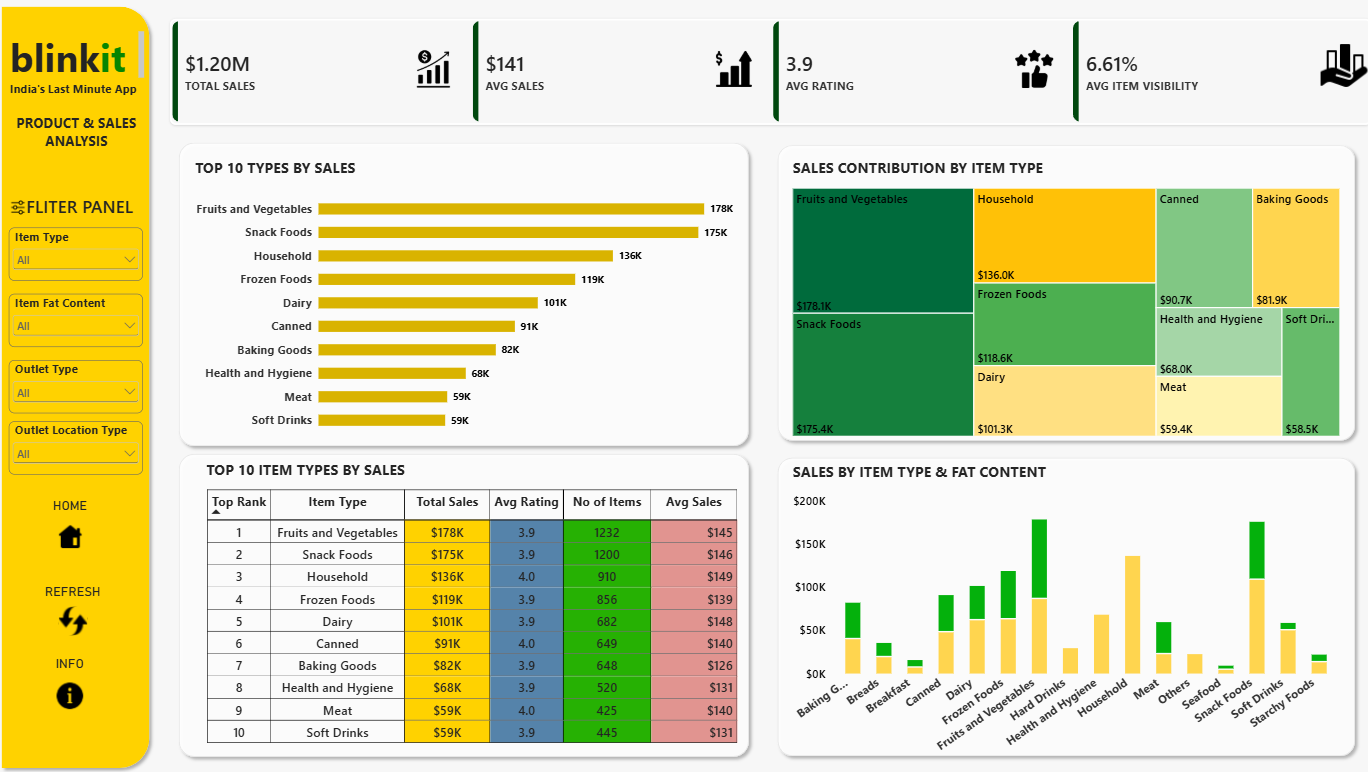

This screenshot's page, from the dashboard's own definition file:
{"tool":"powerbi","page":{"name":"PRODUCT","canvas":[1920,1080],"ordinal":1},"visuals":[{"type":"shape","box":[0,0,224.4,1080.6],"z":0},{"type":"textbox","box":[20.6,43.2,187.3,67.9],"z":1000},{"type":"textbox","box":[20.6,111.1,224.4,30.9],"z":2000},{"type":"cardVisual","fields":{"Data":["BlinkIT Grocery Data.Total Sales","BlinkIT Grocery Data.Avg Sales","BlinkIT Grocery Data.Avg Rating","BlinkIT Grocery Data.Average Item Visibility"]},"box":[244.2,26.2,1676.2,148.3],"z":3000},{"type":"shape","box":[247.7,190.1,812.8,441.3],"z":4000},{"type":"cardVisual","fields":{"Data":["BlinkIT Grocery Data.Total Sales","BlinkIT Grocery Data.Avg Sales","BlinkIT Grocery Data.No of Items","BlinkIT Grocery Data.Avg Rating"]},"box":[343.7,568.1,121.4,55.6],"z":5000},{"type":"shape","box":[247,695.7,317,57.6],"z":6000},{"type":"slicer","fields":{"Values":["BlinkIT Grocery Data.Item Type"]},"box":[18.5,317,187.3,74.1],"z":7000},{"type":"slicer","fields":{"Values":["BlinkIT Grocery Data.Item Fat Content"]},"box":[18.5,409.6,187.3,74.1],"z":8000},{"type":"slicer","fields":{"Values":["BlinkIT Grocery Data.Outlet Type"]},"box":[18.5,502.2,187.3,74.1],"z":9000},{"type":"textbox","box":[43.2,271.7,181.1,57.6],"z":10000},{"type":"image","box":[10.3,279.9,43.2,20.6],"z":11000},{"type":"actionButton","title":"REFRESH","box":[20.9,813.9,175.3,83.5],"z":12000},{"type":"actionButton","title":"INFO","box":[54.3,916.2,100.2,89.7],"z":13000},{"type":"slicer","fields":{"Values":["BlinkIT Grocery Data.Outlet Location Type"]},"box":[19.2,587.8,187.3,74.1],"z":14000},{"type":"shape","box":[1082.7,193.5,823.3,430.2],"z":15000},{"type":"shape","box":[247,623.7,813,440.5],"z":16000},{"type":"shape","box":[1082.7,629.8,823.3,434.3],"z":17000},{"type":"clusteredBarChart","title":"TOP 10 TYPES BY SALES","fields":{"Category":["BlinkIT Grocery Data.Item Type"],"Y":["Sum(BlinkIT Grocery Data.Sales)"]},"box":[263.5,205.8,782.2,417.8],"z":18000},{"type":"tableEx","title":"TOP 10 ITEM TYPES BY SALES","fields":{"Values":["BlinkIT Grocery Data.Top Rank","BlinkIT Grocery Data.Item Type","BlinkIT Grocery Data.Total Sales","BlinkIT Grocery Data.Avg Rating","BlinkIT Grocery Data.No of Items","BlinkIT Grocery Data.Avg Sales"]},"box":[279.1,626.2,781.4,429.1],"z":19000},{"type":"treemap","title":"SALES CONTRIBUTION BY ITEM TYPE","fields":{"Group":["BlinkIT Grocery Data.Item Type"],"Values":["BlinkIT Grocery Data.Total Sales"]},"box":[1097.1,205.8,795.4,418.6],"z":20000},{"type":"columnChart","title":"SALES BY ITEM TYPE & FAT CONTENT","fields":{"Category":["BlinkIT Grocery Data.Item Type"],"Series":["BlinkIT Grocery Data.Item Fat Content"],"Y":["BlinkIT Grocery Data.Total Sales"]},"box":[1097.7,630.3,795.1,450.8],"z":21000},{"type":"textbox","box":[0,158.6,227.5,71],"z":22000},{"type":"actionButton","title":"HOME","box":[60.5,695,87.7,81.4],"z":22001},{"type":"image","box":[1842.8,56.3,77.2,71],"z":22002}]}

Visuals, with their boxes in screenshot pixels (x1, y1, x2, y2), scaled from the page's 1920x1080 canvas onto the 1368x772 screenshot:
shape: 0:0:160:771
textbox: 15:31:148:79
textbox: 15:79:175:102
cardVisual - BlinkIT Grocery Data.Total Sales x BlinkIT Grocery Data.Avg Sales: 174:19:1367:125
shape: 176:136:756:451
cardVisual - BlinkIT Grocery Data.Total Sales x BlinkIT Grocery Data.Avg Sales: 245:406:331:446
shape: 176:497:402:538
slicer - BlinkIT Grocery Data.Item Type: 13:227:147:280
slicer - BlinkIT Grocery Data.Item Fat Content: 13:293:147:346
slicer - BlinkIT Grocery Data.Outlet Type: 13:359:147:412
textbox: 31:194:160:235
image: 7:200:38:215
"REFRESH" actionButton: 15:582:140:641
"INFO" actionButton: 39:655:110:719
slicer - BlinkIT Grocery Data.Outlet Location Type: 14:420:147:473
shape: 771:138:1358:446
shape: 176:446:755:761
shape: 771:450:1358:761
"TOP 10 TYPES BY SALES" clusteredBarChart: 188:147:745:446
"TOP 10 ITEM TYPES BY SALES" tableEx: 199:448:756:754
"SALES CONTRIBUTION BY ITEM TYPE" treemap: 782:147:1348:446
"SALES BY ITEM TYPE & FAT CONTENT" columnChart: 782:451:1349:771
textbox: 0:113:162:164
"HOME" actionButton: 43:497:106:555
image: 1313:40:1367:91
